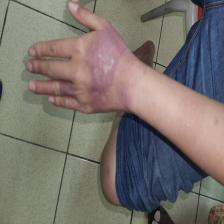Dermatitis numularis: (60, 79, 76, 100)
Psoriasis vulgaris: (88, 25, 127, 108)
